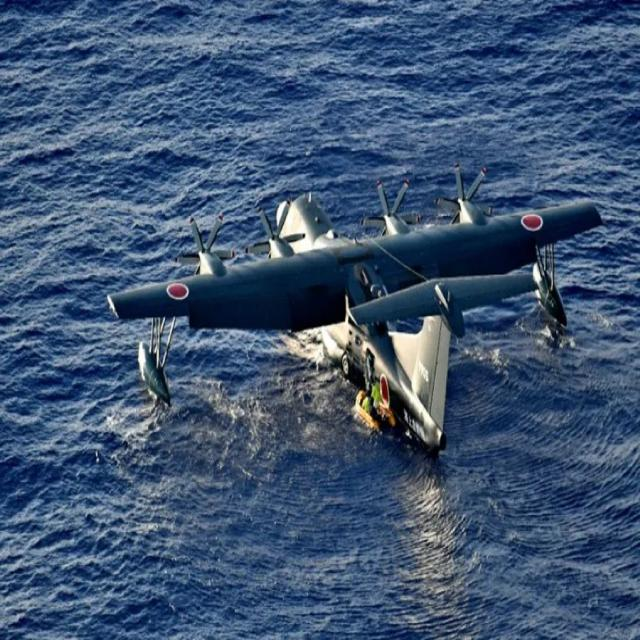MIL_Plane: (107, 162, 603, 458)
